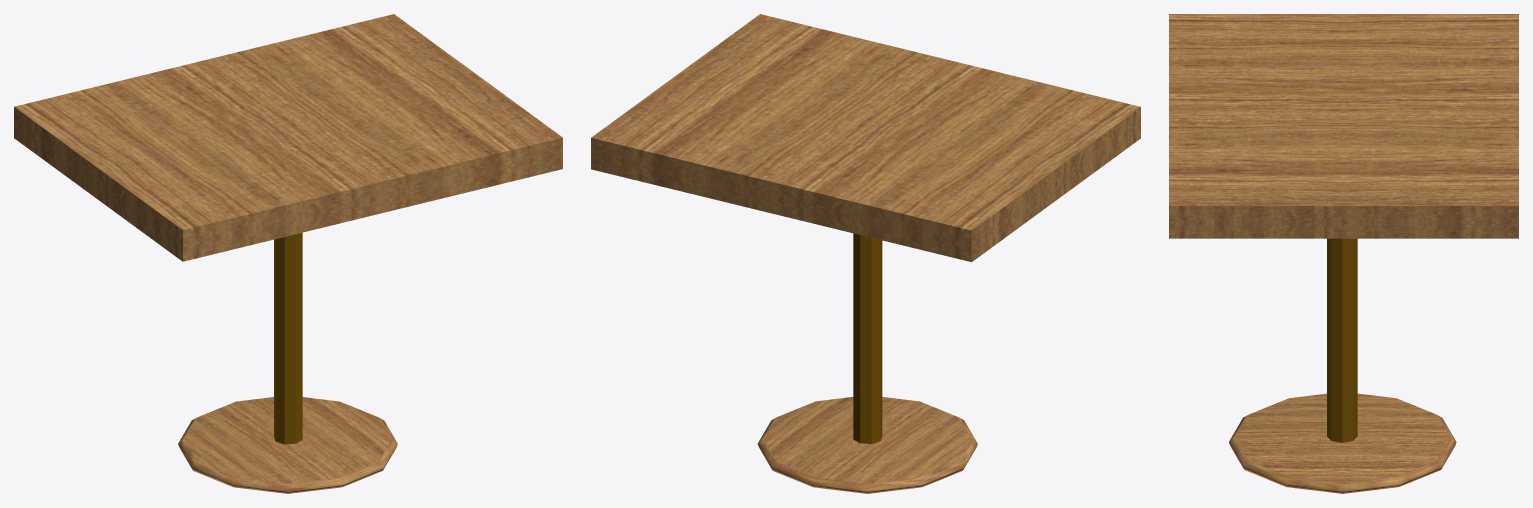
Rendered from squaretable.fbx.
3 views of the same model, side by side, from view 1: azimuth 30°, elevation 25°; view 2: azimuth 150°, elevation 25°; view 3: azimuth 270°, elevation 25° (orthographic). The views are drawn at different scales.
Parts seen in each view (by area): view 1: pCube1, bottom1, tableleg1; view 2: pCube1, bottom1, tableleg1; view 3: pCube1, bottom1, tableleg1.
Boxes of the visible parts, box(x1,y1,x2,y2) form: pCube1: box(14, 14, 562, 261); bottom1: box(178, 397, 397, 493); tableleg1: box(274, 232, 302, 444); pCube1: box(591, 14, 1140, 262); bottom1: box(757, 397, 977, 493); tableleg1: box(853, 233, 882, 443); pCube1: box(1169, 14, 1518, 238); bottom1: box(1229, 393, 1456, 493); tableleg1: box(1327, 238, 1357, 442).
Bounding box in the file's own units: 83.04 × 67.81 × 63.89.
